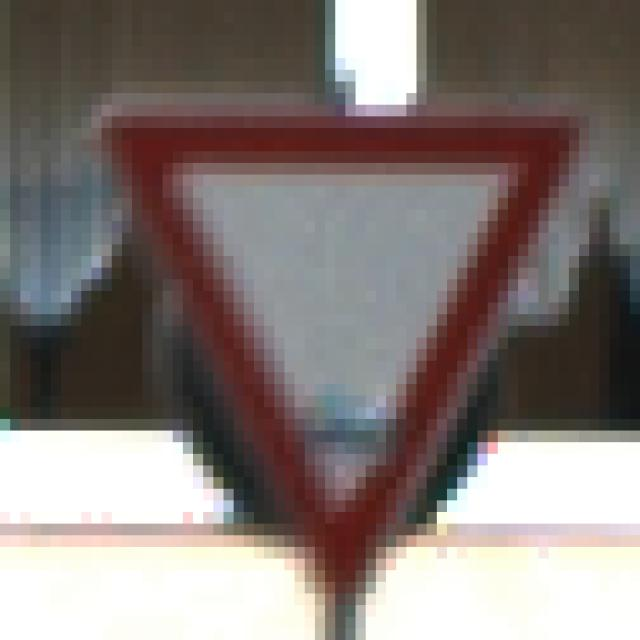Give Way: (62, 59, 590, 583)
